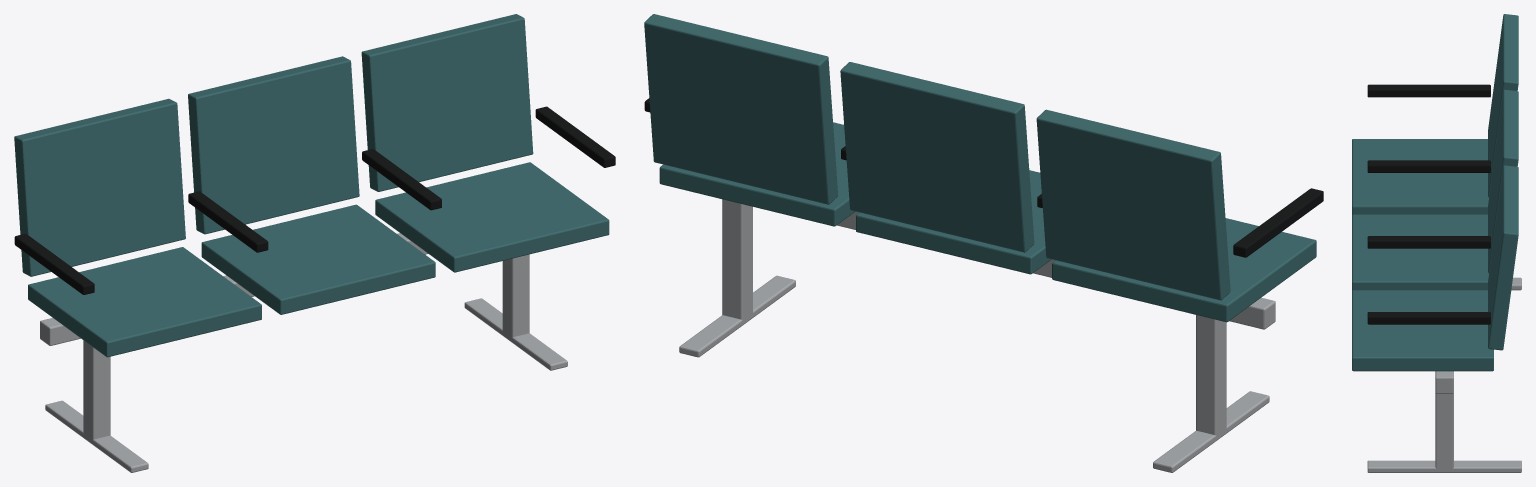
File: PROP_Seating_Waiting_3.glb
The picture shows the model from 3 angles, left to right: view 1: azimuth 30°, elevation 25°; view 2: azimuth 150°, elevation 25°; view 3: azimuth 270°, elevation 25°; orthographic projection. The views are drawn at different scales.
Visible parts, largest first — view 1: PROP_Seating_Waiting_3_Mesh; view 2: PROP_Seating_Waiting_3_Mesh; view 3: PROP_Seating_Waiting_3_Mesh.
Boxes of the visible parts, x1=… form: PROP_Seating_Waiting_3_Mesh: x1=14, y1=14, x2=615, y2=472; PROP_Seating_Waiting_3_Mesh: x1=644, y1=14, x2=1323, y2=472; PROP_Seating_Waiting_3_Mesh: x1=1352, y1=14, x2=1521, y2=472.
Size of what is drawn, in the model's own units: 1.78 by 0.911 by 0.55.
